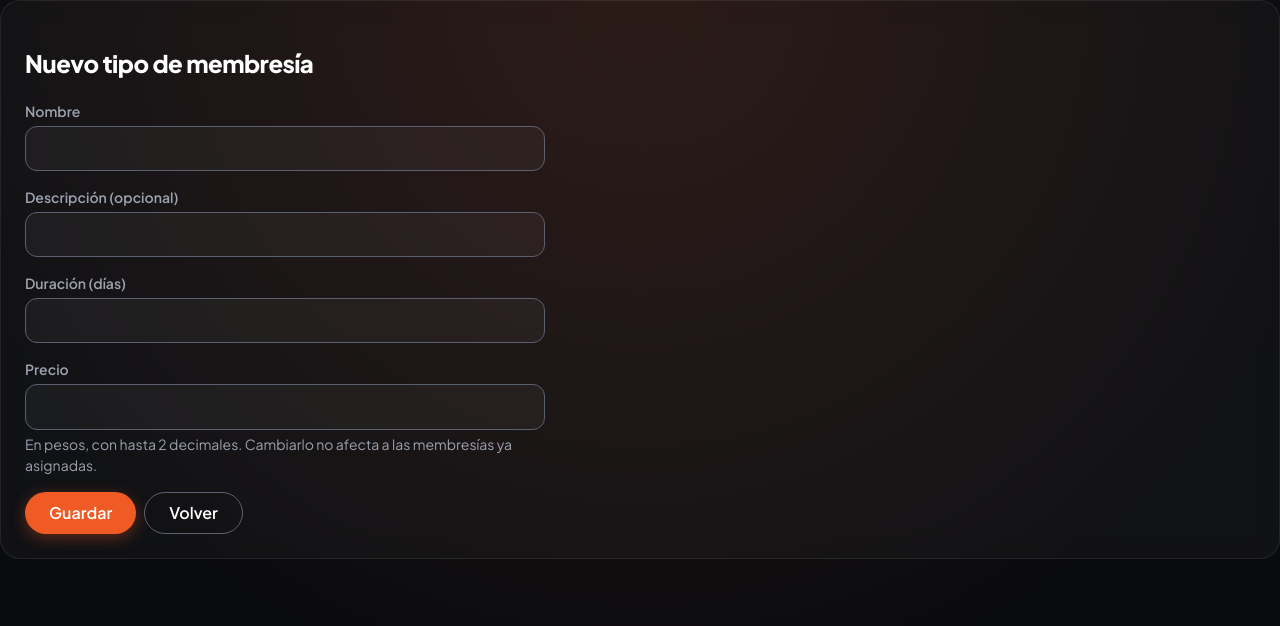
formulario de tipos de membresía › rechaza_duracion_decimal_y_precio_negativo
The image size is (1280, 626).
Type "Mensual" into the field labelled "Nombre" at (285,148), box [25,126,545,171]
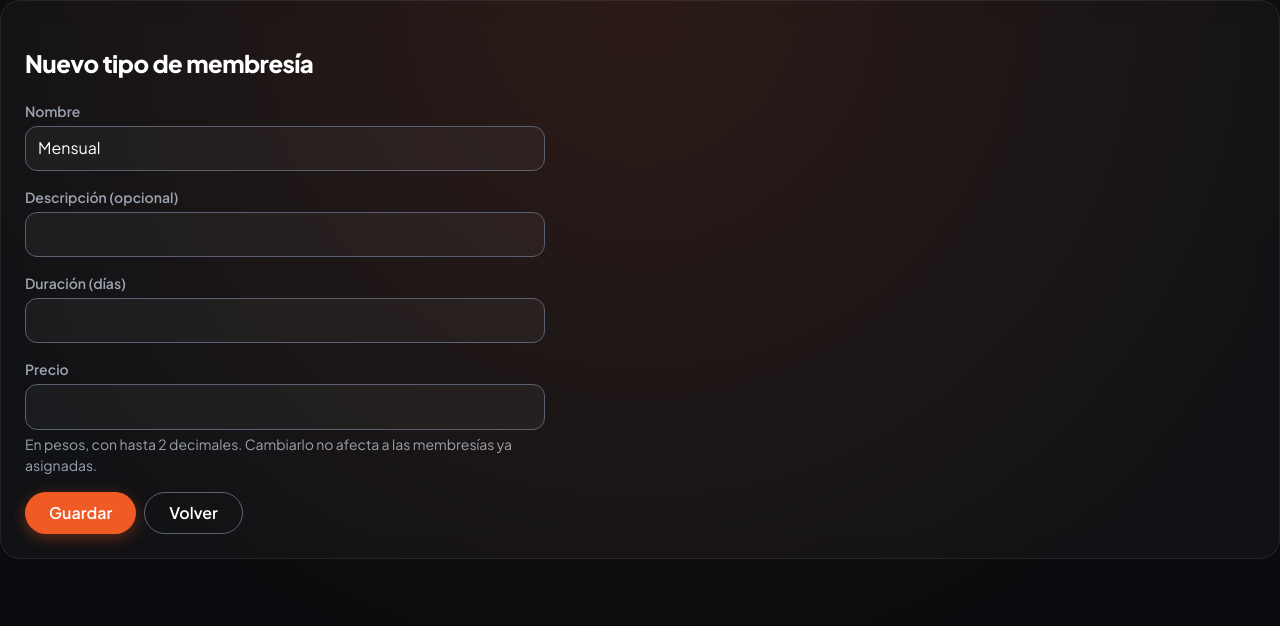
Type "2.5" into the number field labelled "Duración (días)" at (285,321), box [25,298,545,343]
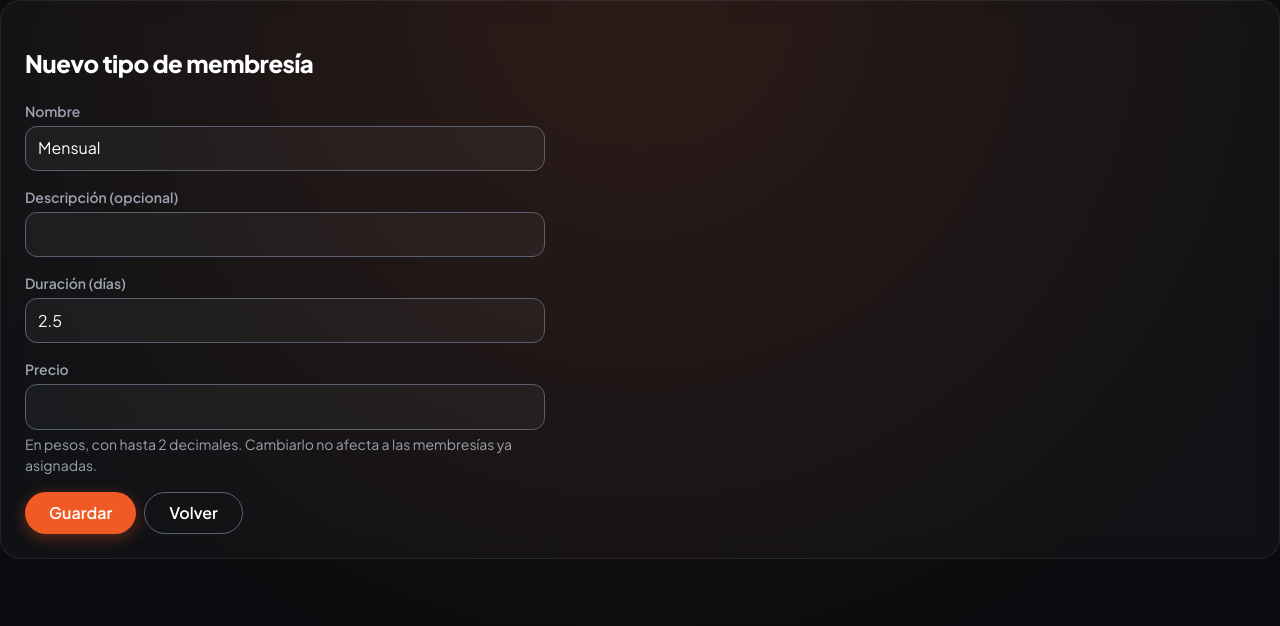
Type "-10" into the field labelled "Precio" at (285,407), box [25,384,545,430]
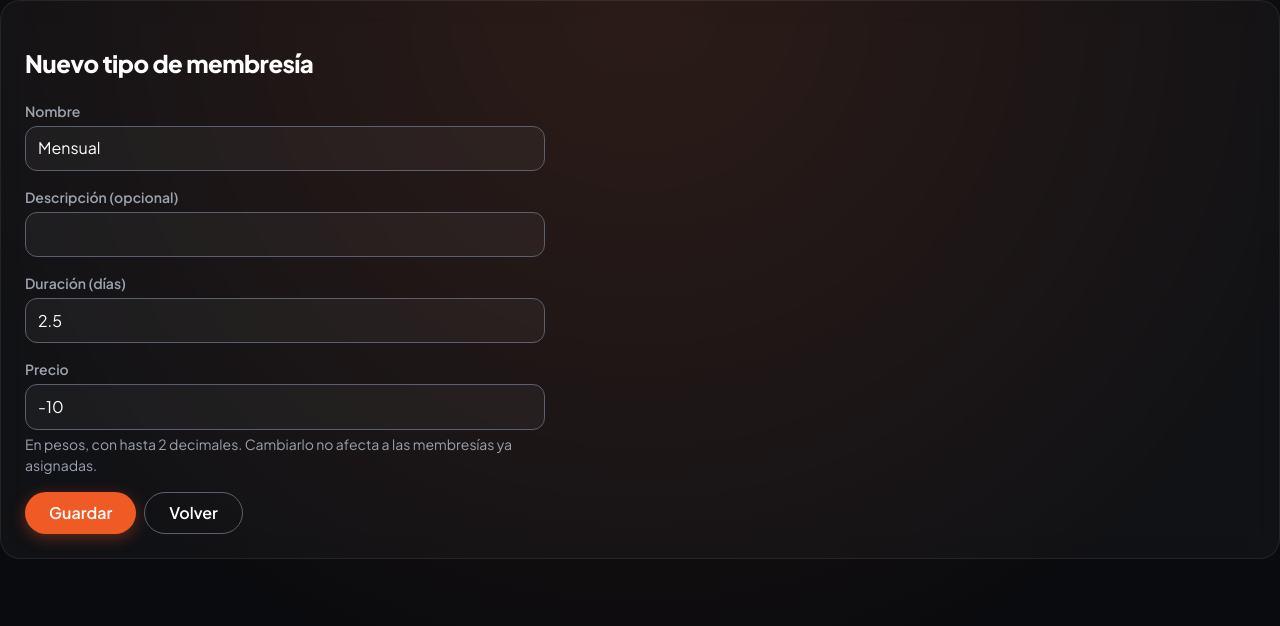
Click the button "Guardar" at (81,513), box [25,492,136,534]
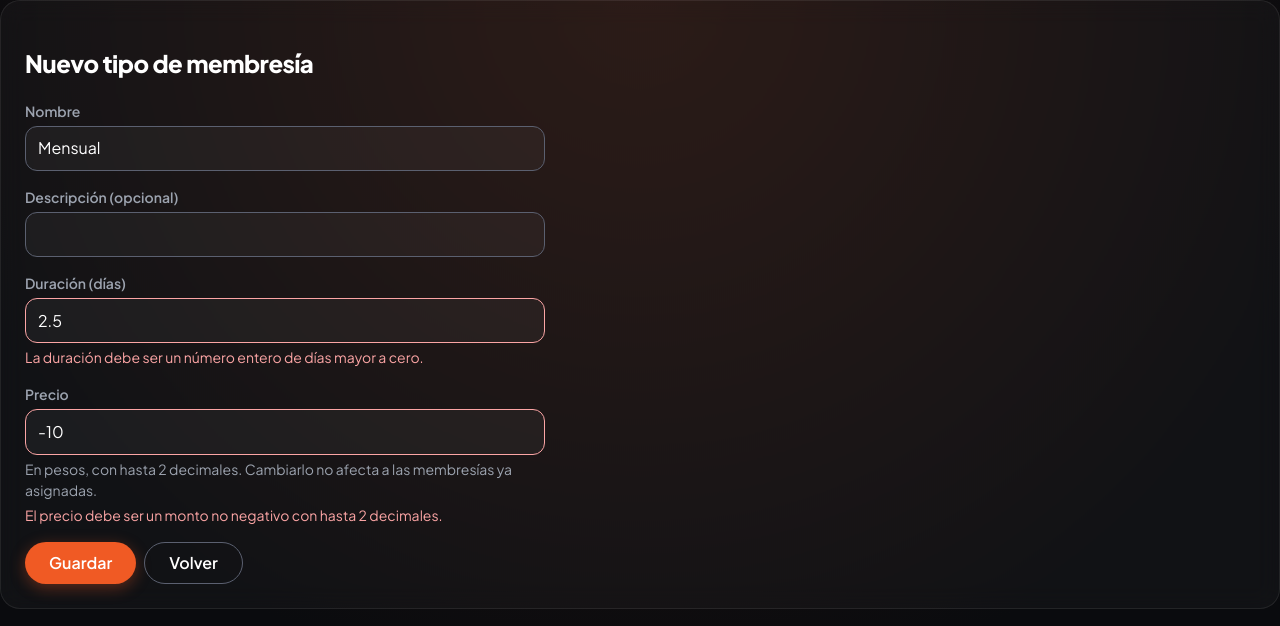
Check: the text "La duración debe ser un número entero de días mayor a cero." is shown, box [25,348,424,366]
Check: the text "El precio debe ser un monto no negativo con hasta 2 decimales." is shown, box [25,506,443,524]
